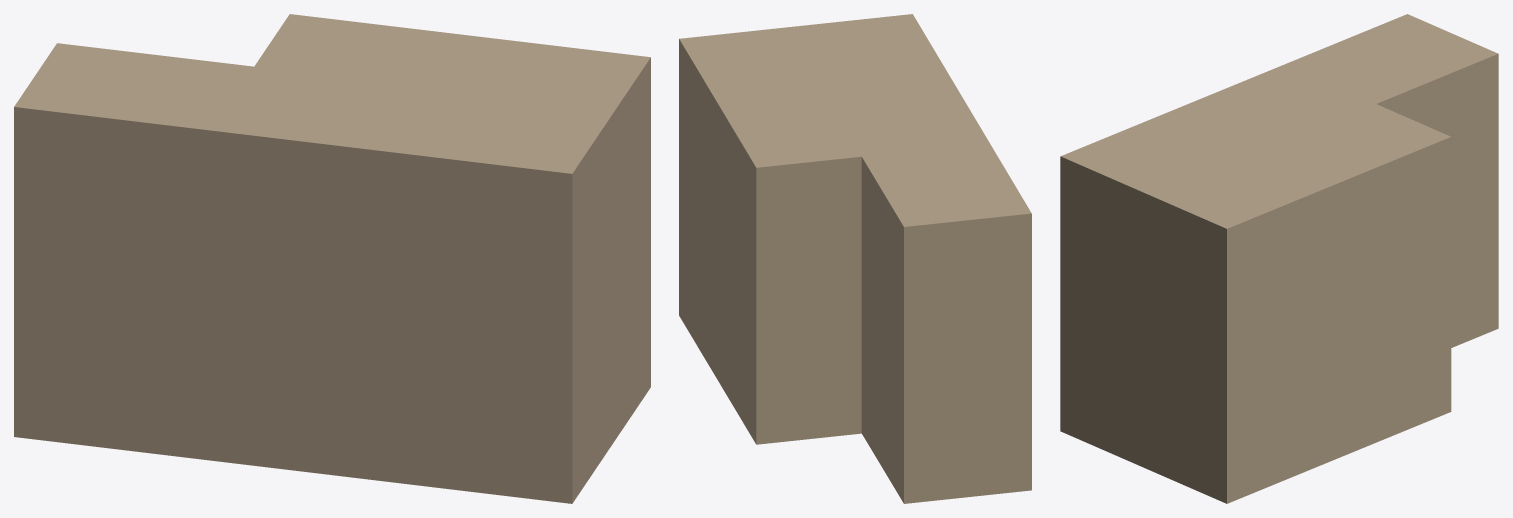
Rendered from bld_101353769.dae.
3 renders of one model, left to right at view 1: azimuth 30°, elevation 25°; view 2: azimuth 150°, elevation 25°; view 3: azimuth 270°, elevation 25°, orthographic. The views are drawn at different scales.
Parts seen in each view (by area): view 1: bld_101353769; view 2: bld_101353769; view 3: bld_101353769.
Boxes of the visible parts, box(x1,y1,x2,y2) form: bld_101353769: box(14, 14, 650, 503); bld_101353769: box(679, 14, 1031, 503); bld_101353769: box(1060, 14, 1498, 503).
Bounding box in the file's own units: 13.41 × 11.55 × 8.
